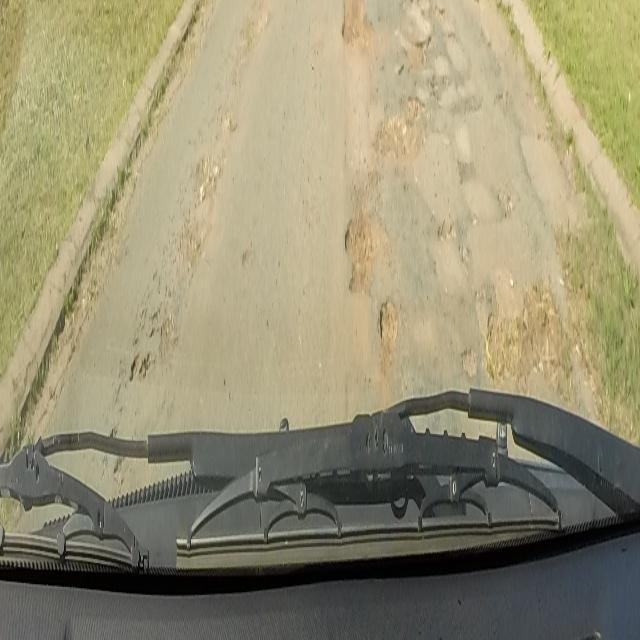pothole: (373, 88, 431, 165), (342, 205, 388, 298), (340, 0, 375, 50), (400, 0, 438, 39), (378, 290, 398, 356)
